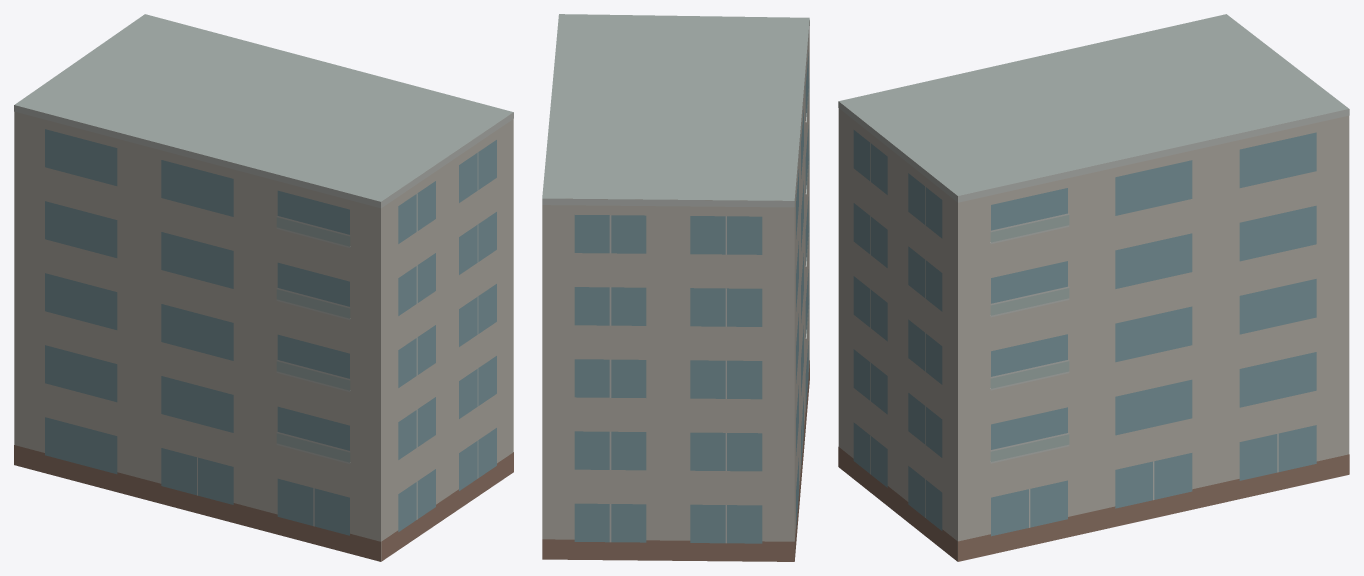
Rendered from survey-upis-32893710.glb.
3 renders of one model, left to right at view 1: azimuth 30°, elevation 25°; view 2: azimuth 150°, elevation 25°; view 3: azimuth 270°, elevation 25°, orthographic.
Parts seen in each view (by area): view 1: survey-upis-32893710.tmp; view 2: survey-upis-32893710.tmp; view 3: survey-upis-32893710.tmp.
Boxes of the visible parts, x1=… form: survey-upis-32893710.tmp: x1=14, y1=14, x2=513, y2=561; survey-upis-32893710.tmp: x1=542, y1=14, x2=809, y2=561; survey-upis-32893710.tmp: x1=838, y1=14, x2=1349, y2=561.
Bounding box in the file's own units: 14.31 × 13.39 × 16.96.
